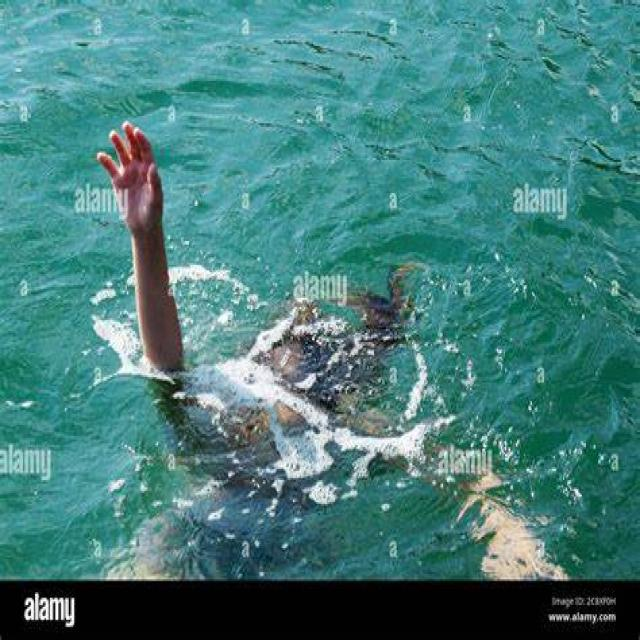drowning: (81, 103, 425, 579)
